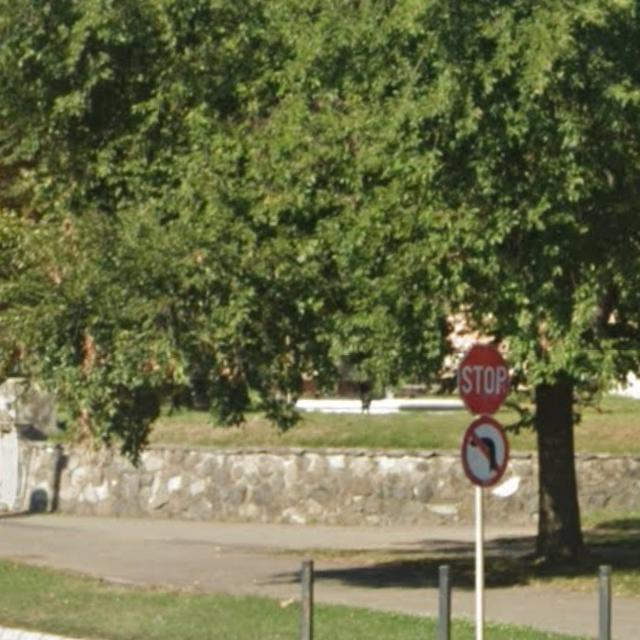prio_stop: (459, 342, 510, 420)
